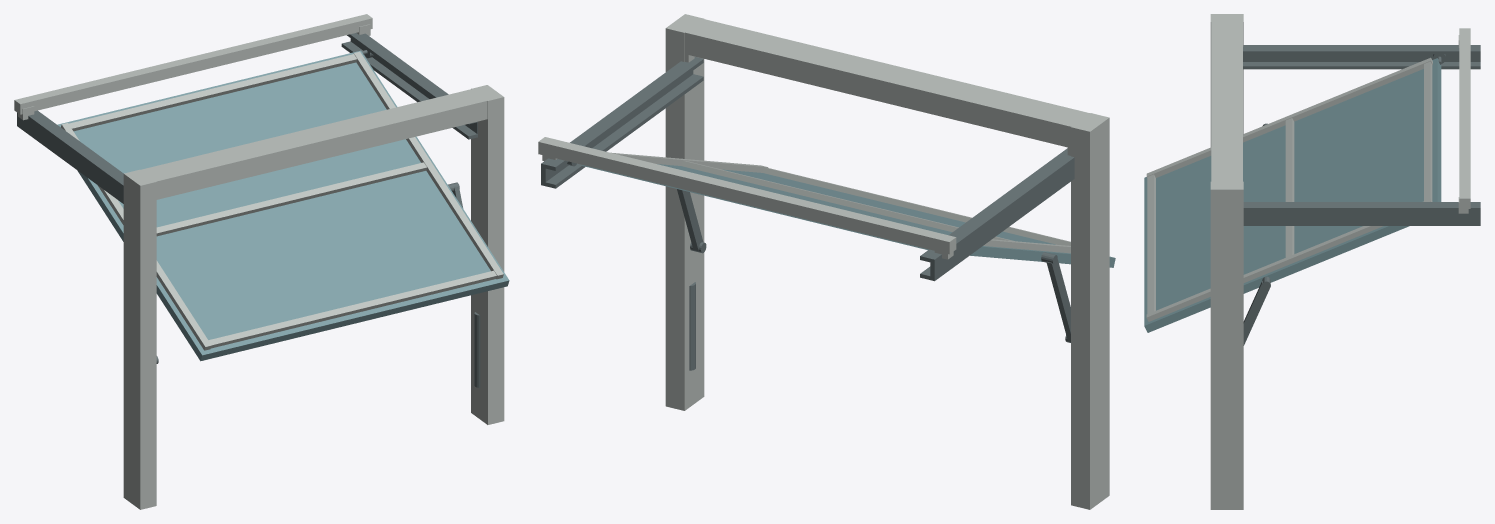
3 views of the same model, side by side, from view 1: azimuth 30°, elevation 25°; view 2: azimuth 150°, elevation 25°; view 3: azimuth 270°, elevation 25° (orthographic). The views are drawn at different scales.
Parts seen in each view (by area): view 1: WholeRigidDoorPanel, WholeHeader, WholeGroundedJamb_-1, WholeGroundedJamb_1, WholeRearCrossTie, WholeStraightSlottedOverheadTrack_-1, WholeLeafCrossStiffener_0.065, WholeLeafCrossStiffener_2.175, WholeStraightSlottedOverheadTrack_1, WholeLeafCrossStiffener_1.12, WholeLeafEdgeStiffener_1.16, WholeLeafEdgeStiffener_-1.16; view 2: WholeHeader, WholeGroundedJamb_-1, WholeGroundedJamb_1, WholeRearCrossTie, WholeStraightSlottedOverheadTrack_-1, WholeStraightSlottedOverheadTrack_1, WholeRigidDoorPanel, WholeLeafCrossStiffener_1.12, WholeLeafCrossStiffener_0.065, WholeLeafEdgeStiffener_1.16, WholeSideSwingArm_-1, WholeSideSwingArm_1 (+1 smaller); view 3: WholeRigidDoorPanel, WholeGroundedJamb_1, WholeStraightSlottedOverheadTrack_1, WholeStraightSlottedOverheadTrack_-1, WholeHeader, WholeLeafEdgeStiffener_-1.16, WholeRearCrossTie, WholeLeafEdgeStiffener_1.16, WholeLeafCrossStiffener_2.175, WholeLeafCrossStiffener_0.065, WholeLeafCrossStiffener_1.12, WholeGroundedJamb_-1 (+1 smaller).
Part boxes in pixels (left/top/right/bottom): WholeRigidDoorPanel: left=57, top=50, right=509, bottom=361; WholeHeader: left=140, top=89, right=487, bottom=199; WholeGroundedJamb_-1: left=123, top=169, right=156, bottom=509; WholeGroundedJamb_1: left=471, top=85, right=504, bottom=424; WholeRearCrossTie: left=14, top=14, right=372, bottom=114; WholeStraightSlottedOverheadTrack_-1: left=17, top=110, right=123, bottom=203; WholeLeafCrossStiffener_0.065: left=208, top=270, right=496, bottom=348; WholeLeafCrossStiffener_2.175: left=69, top=54, right=357, bottom=131; WholeStraightSlottedOverheadTrack_1: left=341, top=33, right=477, bottom=139; WholeLeafCrossStiffener_1.12: left=156, top=162, right=426, bottom=236; WholeLeafEdgeStiffener_1.16: left=353, top=51, right=503, bottom=279; WholeLeafEdgeStiffener_-1.16: left=61, top=123, right=211, bottom=350; WholeHeader: left=685, top=19, right=1089, bottom=148; WholeGroundedJamb_-1: left=1071, top=113, right=1109, bottom=509; WholeGroundedJamb_1: left=665, top=14, right=704, bottom=410; WholeRearCrossTie: left=538, top=137, right=956, bottom=254; WholeStraightSlottedOverheadTrack_-1: left=920, top=148, right=1074, bottom=281; WholeStraightSlottedOverheadTrack_1: left=541, top=57, right=703, bottom=188; WholeRigidDoorPanel: left=582, top=164, right=1115, bottom=267; WholeLeafCrossStiffener_1.12: left=681, top=160, right=1014, bottom=241; WholeLeafCrossStiffener_0.065: left=763, top=167, right=1070, bottom=245; WholeLeafEdgeStiffener_1.16: left=611, top=152, right=768, bottom=172; WholeSideSwingArm_-1: left=1046, top=259, right=1070, bottom=341; WholeSideSwingArm_1: left=677, top=189, right=703, bottom=250; WholeRigidDoorPanel: left=1144, top=58, right=1441, bottom=332; WholeGroundedJamb_1: left=1210, top=181, right=1243, bottom=509; WholeStraightSlottedOverheadTrack_1: left=1243, top=202, right=1480, bottom=225; WholeStraightSlottedOverheadTrack_-1: left=1243, top=45, right=1480, bottom=69; WholeHeader: left=1211, top=22, right=1242, bottom=181; WholeLeafEdgeStiffener_-1.16: left=1146, top=57, right=1432, bottom=177; WholeRearCrossTie: left=1459, top=28, right=1470, bottom=208; WholeLeafEdgeStiffener_1.16: left=1146, top=198, right=1432, bottom=321; WholeLeafCrossStiffener_2.175: left=1424, top=61, right=1432, bottom=200; WholeLeafCrossStiffener_0.065: left=1147, top=174, right=1155, bottom=313; WholeLeafCrossStiffener_1.12: left=1285, top=118, right=1294, bottom=257; WholeGroundedJamb_-1: left=1210, top=14, right=1243, bottom=146.
Bounding box in the file's own units: 2.89 × 2.46 × 2.34.
